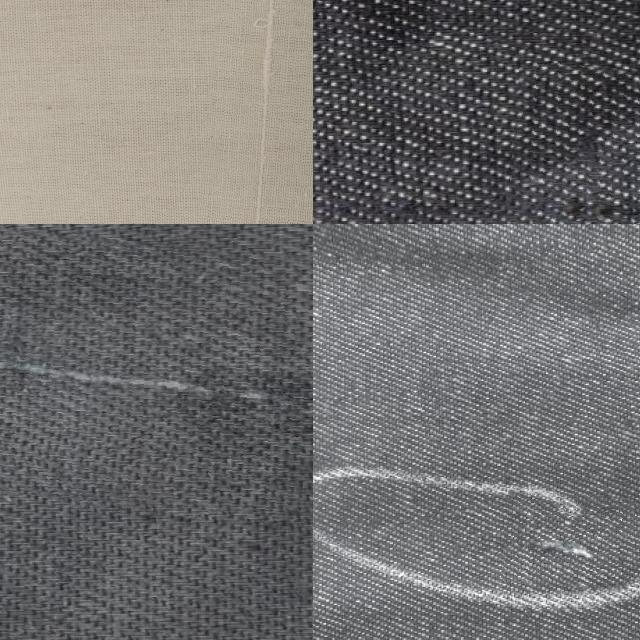stains: (0, 226, 313, 510), (186, 0, 313, 224), (504, 64, 640, 224), (504, 490, 634, 588)
